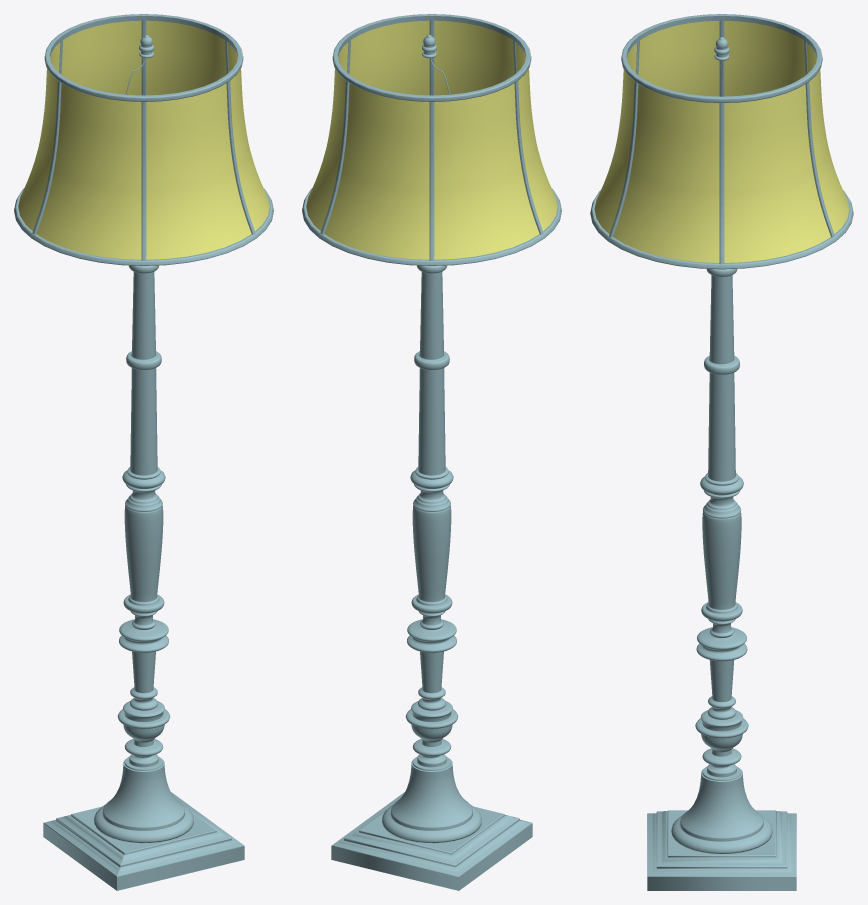
File: Floor_Lamp_Gen_1.fbx
3 views of the same model, side by side, from view 1: azimuth 30°, elevation 25°; view 2: azimuth 150°, elevation 25°; view 3: azimuth 270°, elevation 25° (orthographic).
Parts seen in each view (by area): view 1: mesh_shade, mesh_floor_lamp; view 2: mesh_shade, mesh_floor_lamp; view 3: mesh_shade, mesh_floor_lamp.
Part boxes in pixels (<box>): mesh_shade: <box>18,20,269,259</box>; mesh_floor_lamp: <box>14,14,273,890</box>; mesh_shade: <box>306,20,557,259</box>; mesh_floor_lamp: <box>302,14,561,890</box>; mesh_shade: <box>594,20,849,262</box>; mesh_floor_lamp: <box>590,14,853,890</box>.
Bounding box in the file's own units: 54.45 × 188 × 54.45.
